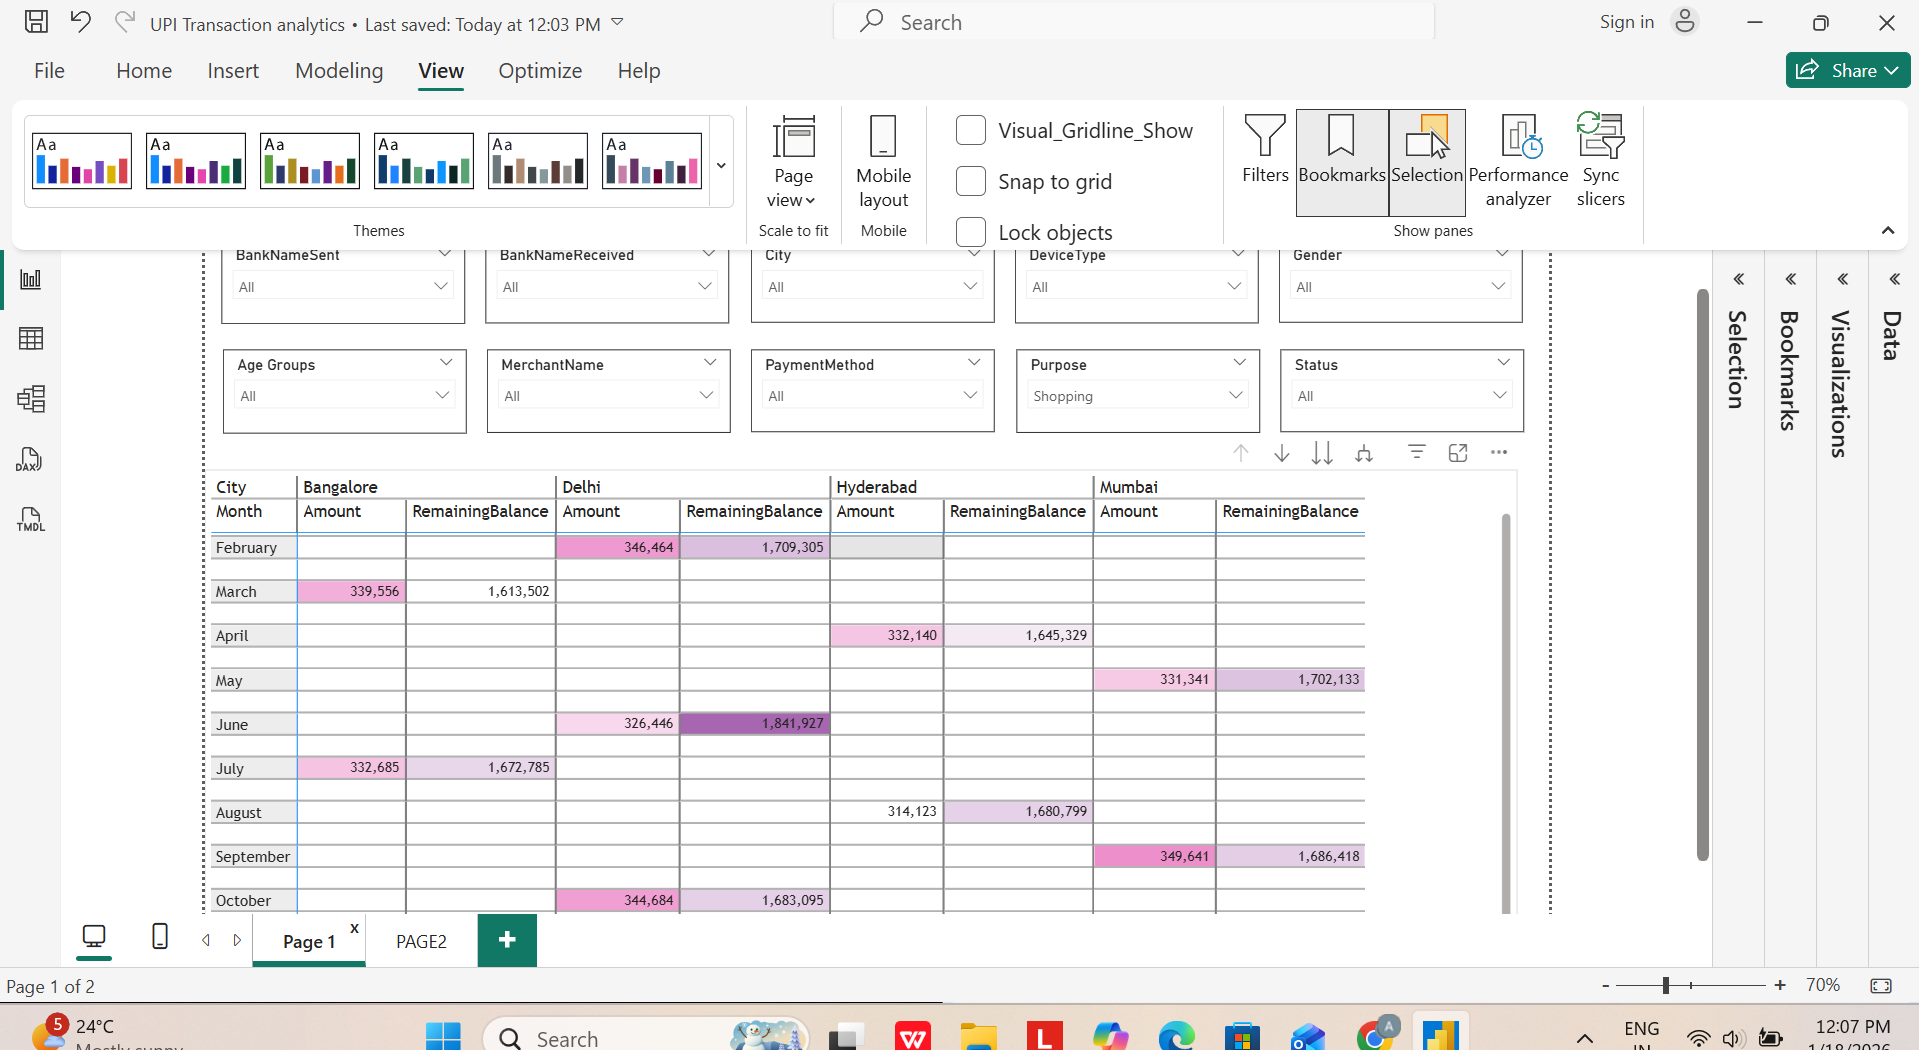

What the dashboard file says about the page in this screenshot:
{"tool":"powerbi","page":{"name":"Page 1","canvas":[1280,720],"ordinal":0},"visuals":[{"type":"slicer","fields":{"Values":["Transaction details.BankNameSent"]},"box":[15.6,20,232,80],"z":0},{"type":"slicer","fields":{"Values":["Transaction details.BankNameReceived"]},"box":[267.6,20,232,79],"z":1000},{"type":"slicer","fields":{"Values":["Transaction details.City"]},"box":[519.6,20,232,78.3],"z":2000},{"type":"slicer","fields":{"Values":["Transaction details.DeviceType"]},"box":[771.6,20,232,79],"z":3000},{"type":"slicer","fields":{"Values":["Transaction details.Gender"]},"box":[1023.6,20,232,78.3],"z":4000},{"type":"slicer","fields":{"Values":["Transaction details.Age Groups"]},"box":[16.7,124.4,232,80],"z":5000},{"type":"slicer","fields":{"Values":["Transaction details.MerchantName"]},"box":[268.7,124.4,232,79],"z":6000},{"type":"slicer","fields":{"Values":["Transaction details.PaymentMethod"]},"box":[520.7,124.4,232,78.3],"z":7000},{"type":"slicer","fields":{"Values":["Transaction details.Purpose"]},"box":[772.7,124.4,232,79],"z":8000},{"type":"slicer","fields":{"Values":["Transaction details.Status"]},"box":[1024.7,124.4,232,78.3],"z":9000},{"type":"pivotTable","fields":{"Values":["Sum(Transaction details.Amount)","Sum(Transaction details.RemainingBalance)"],"Rows":["Transaction details.TransactionDate.Variation.Date Hierarchy.Month"],"Columns":["Transaction details.City","Transaction details.Currency"]},"box":[0,238.6,1250,481.4],"z":10000}]}

Visuals, with their boxes on the page's 1280x720 design canvas (x1, y1, x2, y2). These are canvas units, not pixel positions in the 1919x1050 screenshot, which may show the page scaled, cropped or inside an application window:
slicer - Transaction details.BankNameSent: (16, 20, 248, 100)
slicer - Transaction details.BankNameReceived: (268, 20, 500, 99)
slicer - Transaction details.City: (520, 20, 752, 98)
slicer - Transaction details.DeviceType: (772, 20, 1004, 99)
slicer - Transaction details.Gender: (1024, 20, 1256, 98)
slicer - Transaction details.Age Groups: (17, 124, 249, 204)
slicer - Transaction details.MerchantName: (269, 124, 501, 203)
slicer - Transaction details.PaymentMethod: (521, 124, 753, 203)
slicer - Transaction details.Purpose: (773, 124, 1005, 203)
slicer - Transaction details.Status: (1025, 124, 1257, 203)
pivotTable - Sum(Transaction details.Amount) x Sum(Transaction details.RemainingBalance): (0, 239, 1250, 720)
